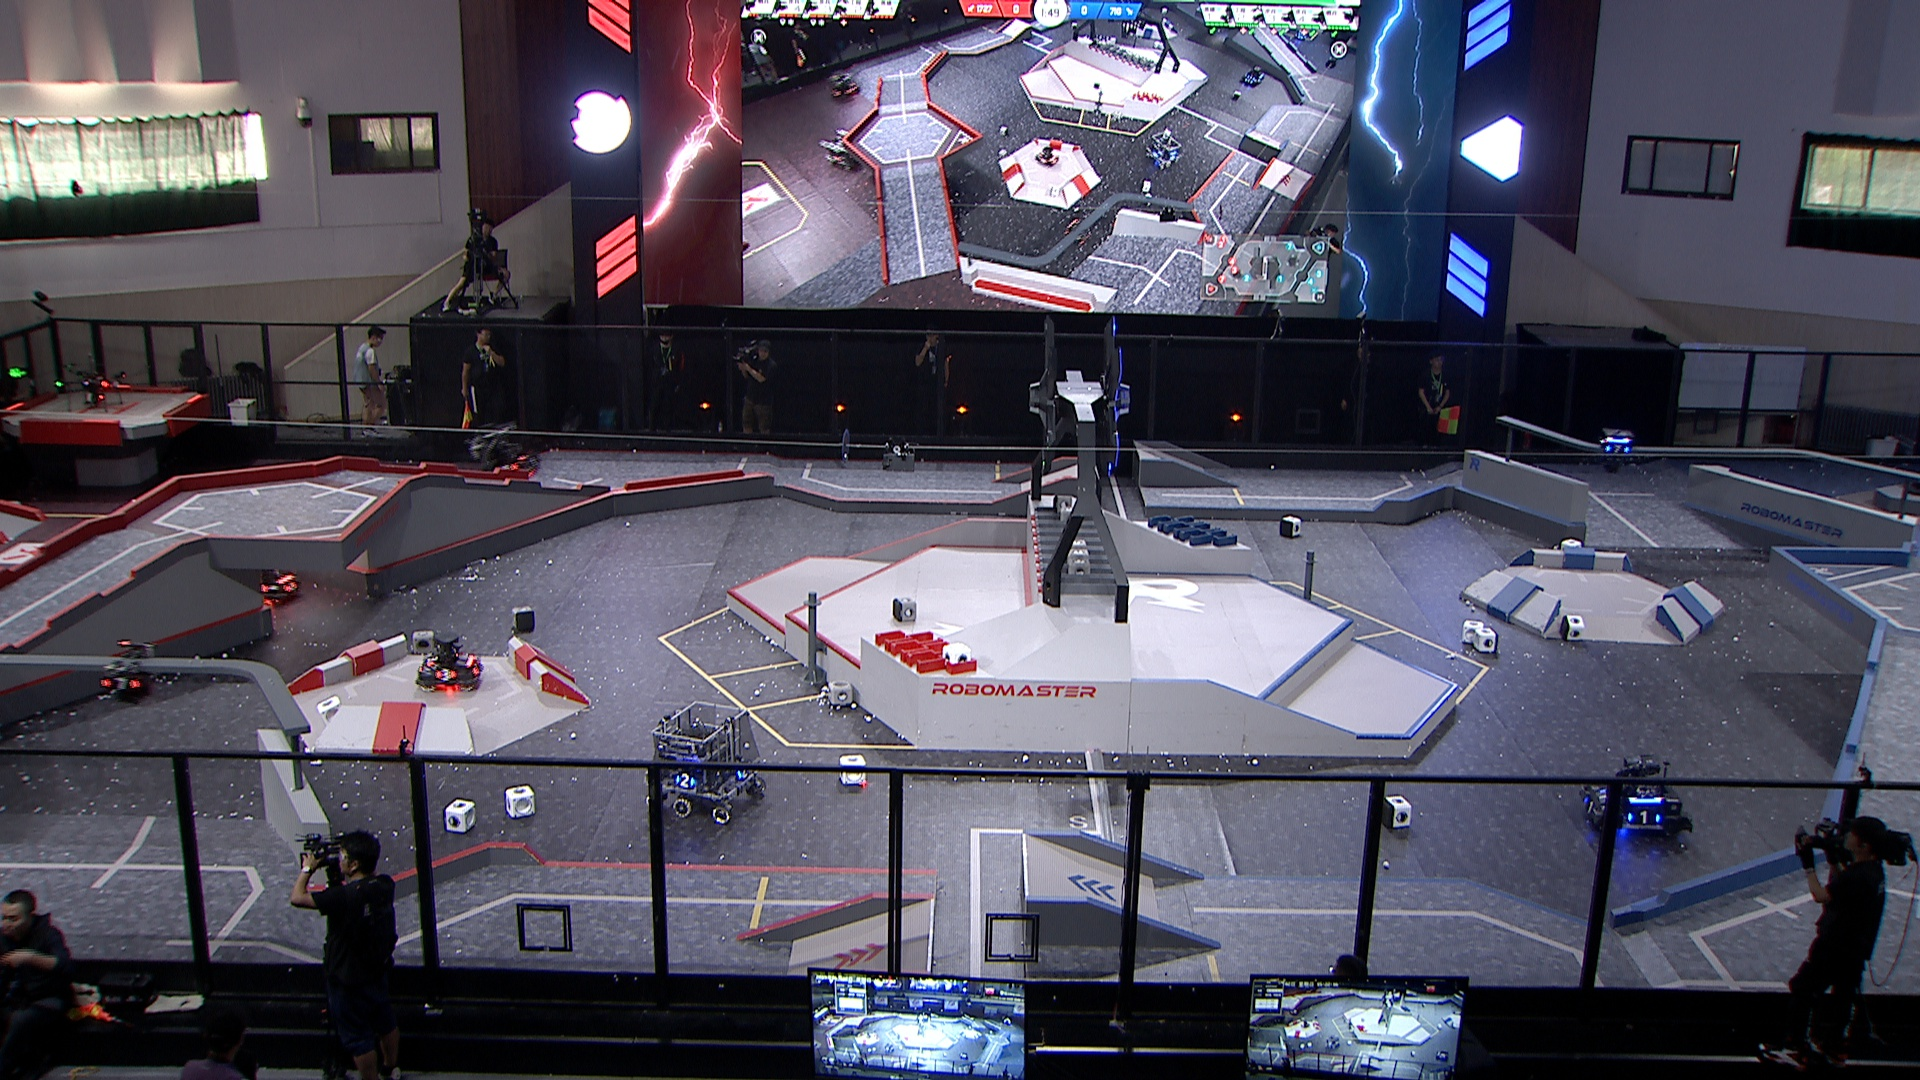armor: (100, 676, 142, 694), (1626, 811, 1662, 827), (675, 770, 698, 789), (1581, 796, 1600, 818), (495, 462, 520, 475), (1605, 443, 1631, 455), (436, 669, 458, 683), (733, 766, 754, 779), (425, 654, 440, 669), (281, 582, 299, 593), (471, 661, 484, 676), (1596, 789, 1609, 800)
car: (647, 702, 765, 825), (1581, 757, 1693, 849), (468, 423, 541, 485), (414, 632, 485, 694), (229, 555, 299, 608)
ignore: (818, 129, 861, 171), (1145, 131, 1182, 167), (825, 69, 858, 102), (1063, 219, 1093, 248), (1038, 146, 1063, 167), (1240, 67, 1266, 83), (1294, 29, 1309, 40)
watcher: (98, 638, 158, 705), (1600, 429, 1633, 476)
